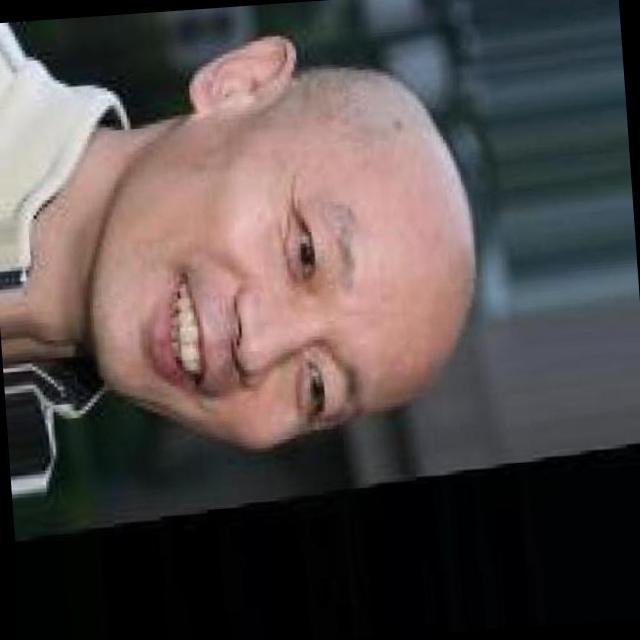bareface: (60, 47, 478, 436)
